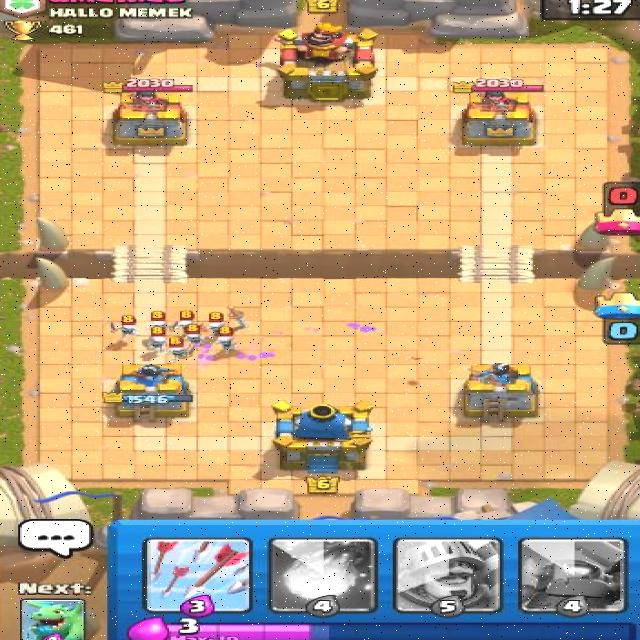Enemy-Skeleton: (107, 312, 142, 343), (207, 325, 242, 356), (158, 338, 193, 363), (200, 311, 233, 337), (142, 327, 173, 353), (173, 309, 202, 336), (145, 309, 171, 337), (180, 323, 205, 349)
